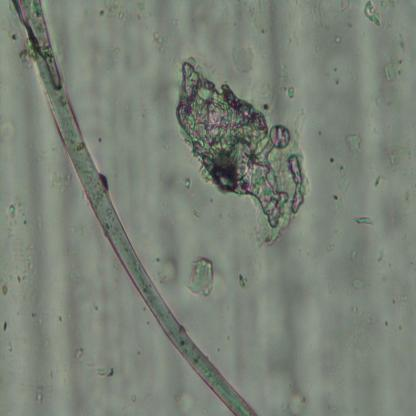Background material: (176, 56, 313, 250), (260, 266, 308, 372), (84, 35, 147, 97), (253, 6, 306, 66), (312, 51, 362, 107), (5, 198, 36, 284), (60, 267, 86, 336), (314, 16, 348, 56), (190, 254, 216, 302), (331, 161, 352, 214), (230, 45, 258, 74), (280, 384, 307, 414), (388, 141, 411, 172), (49, 169, 75, 195), (159, 254, 179, 286), (0, 112, 18, 146), (363, 0, 384, 29), (99, 0, 125, 21), (172, 390, 196, 412), (382, 56, 402, 80), (346, 133, 362, 156), (151, 32, 166, 56), (354, 213, 376, 228), (96, 363, 114, 381), (71, 341, 85, 364), (236, 270, 251, 290), (33, 384, 44, 406), (338, 2, 352, 19), (352, 276, 366, 292), (373, 172, 384, 191), (0, 275, 8, 297), (324, 238, 334, 253), (184, 174, 191, 192), (289, 87, 296, 100), (6, 342, 14, 352), (2, 321, 8, 332)
Cellulose filter fibre: (16, 1, 257, 415)
